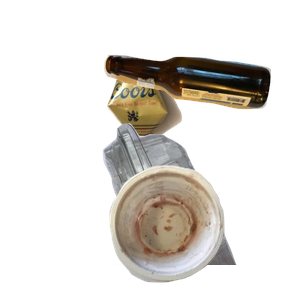glass: (101, 52, 300, 154)
metal: (105, 63, 300, 192)
plastic: (55, 120, 284, 300)
trash: (107, 163, 300, 300)
